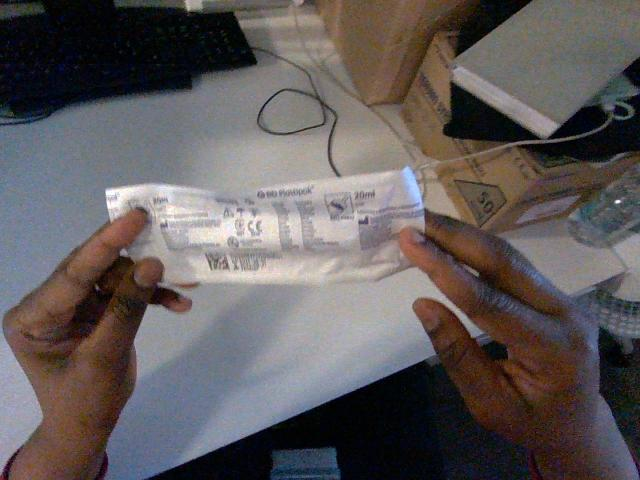syringe: (106, 167, 423, 283)
